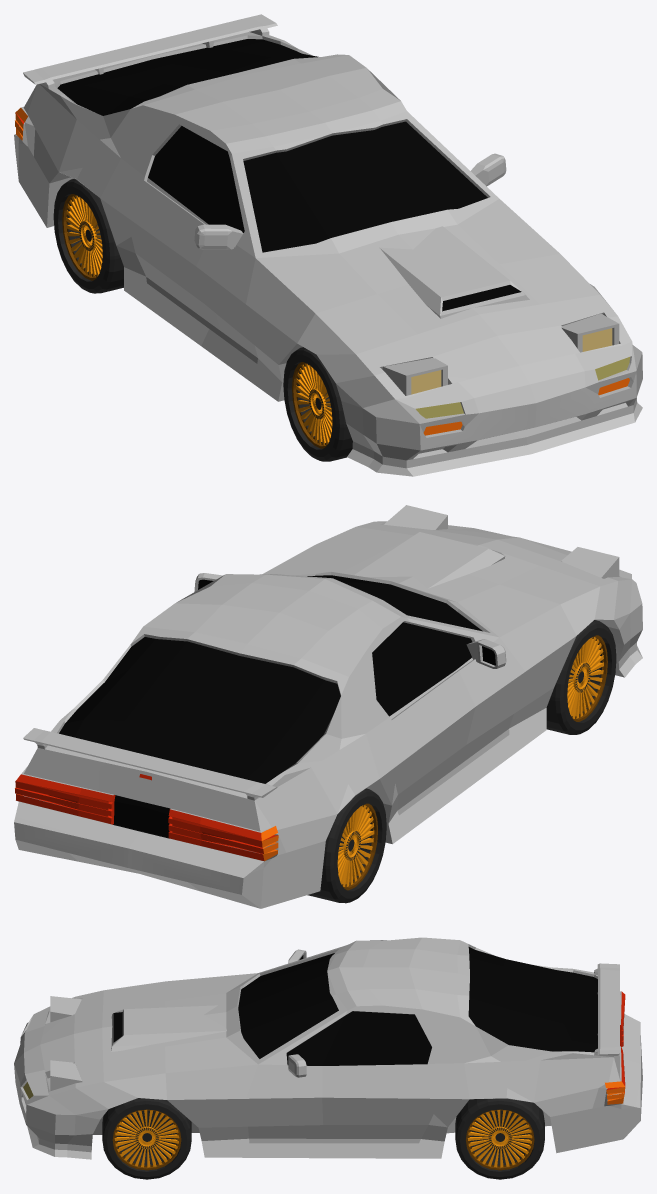
The model's file is Mazda RX7 FC.fbx.
The picture shows the model from 3 angles, top to bottom: view 1: azimuth 30°, elevation 25°; view 2: azimuth 150°, elevation 25°; view 3: azimuth 270°, elevation 25°; orthographic projection. The views are drawn at different scales.
Visible parts, largest first — view 1: Куб.005, Куб.007, Цилиндр.007, Цилиндр.003, Куб.008, Куб.010; view 2: Куб.005, Цилиндр.007, Цилиндр.003, Куб.007, Куб.008, Куб.010; view 3: Куб.005, Цилиндр.005, Цилиндр, Куб.007, Куб.008, Куб.010.
Boxes of the visible parts, box(x1,y1,x2,y2) form: Куб.005: box(14, 14, 642, 476); Куб.007: box(379, 226, 529, 318); Цилиндр.007: box(53, 179, 123, 293); Цилиндр.003: box(283, 347, 352, 461); Куб.008: box(382, 313, 619, 395); Куб.010: box(194, 153, 506, 249); Куб.005: box(14, 521, 642, 908); Цилиндр.007: box(307, 788, 386, 903); Цилиндр.003: box(546, 620, 616, 734); Куб.007: box(354, 532, 505, 588); Куб.008: box(384, 505, 619, 578); Куб.010: box(194, 573, 506, 668); Куб.005: box(14, 937, 642, 1159); Цилиндр.005: box(455, 1098, 544, 1179); Цилиндр: box(102, 1098, 191, 1179); Куб.007: box(93, 1005, 226, 1134); Куб.008: box(50, 996, 82, 1091); Куб.010: box(288, 949, 306, 1077).
Bounding box in the file's own units: 167 × 108 × 381.
